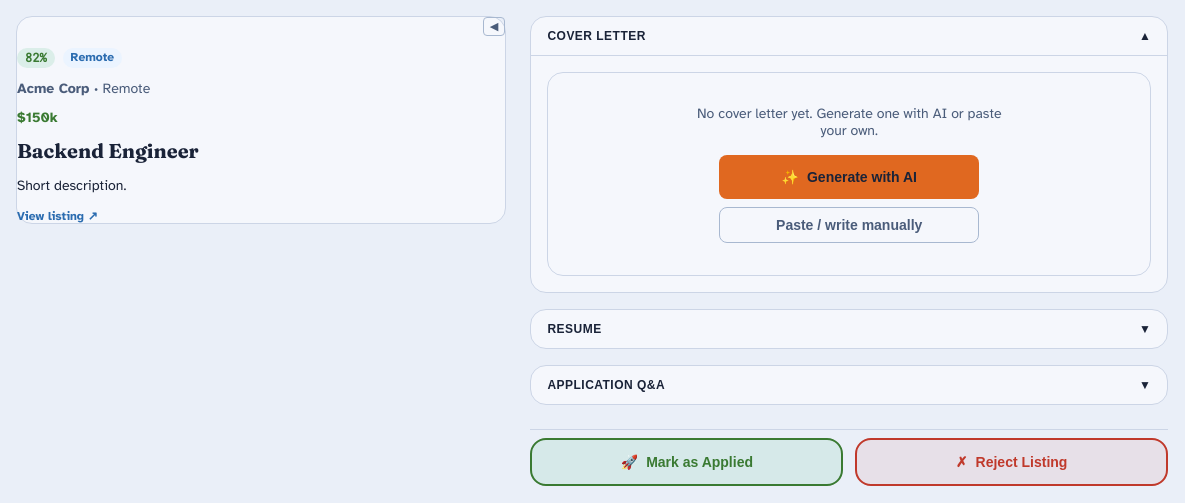
Test: ApplyWorkspace — job details collapse › collapses when the toggle is clicked and hides description/company
Step 1. Click the button with class "job-panel-toggle" → (494, 26), box [483,17,505,36]
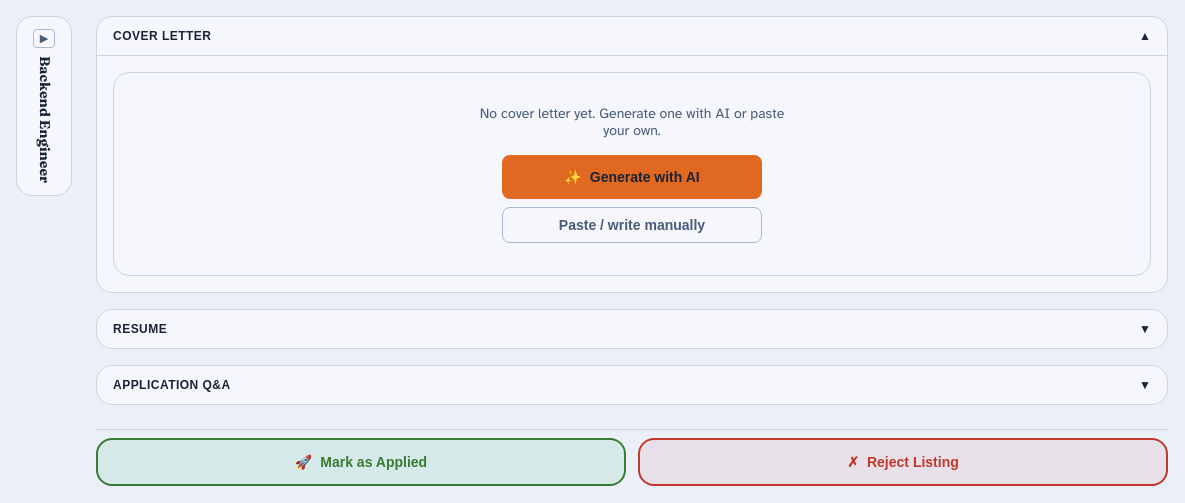
Check: the element with class "workspace__job-panel--collapsed" is shown, box [16,16,72,196]
